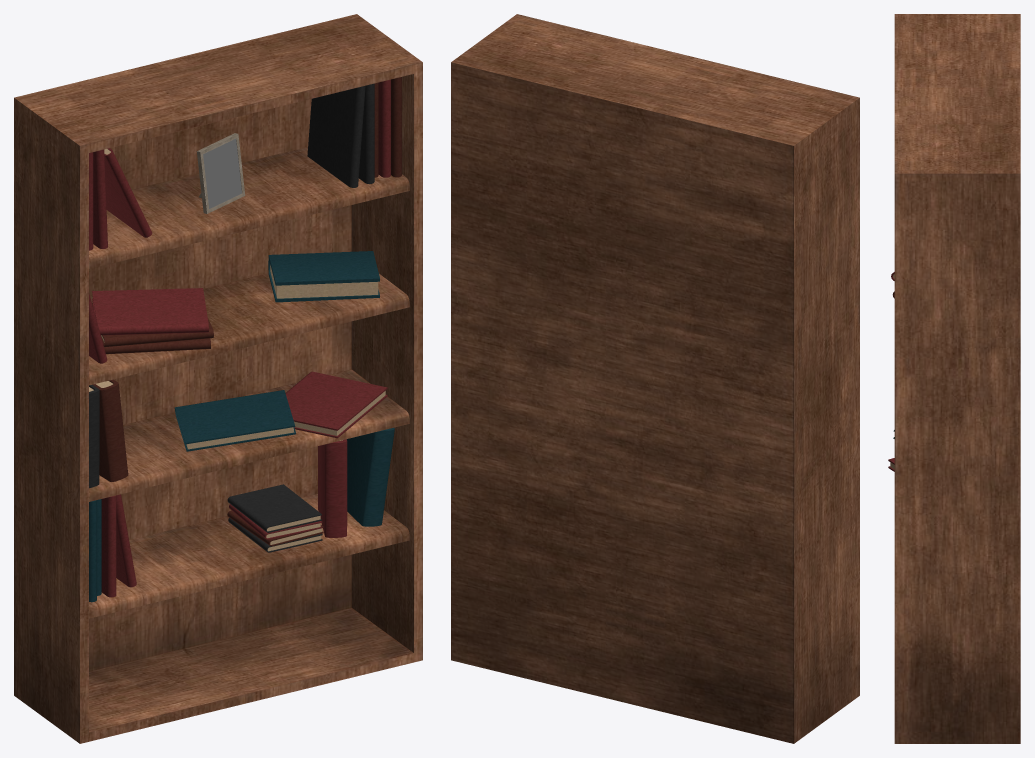
3 views of the same model, side by side, from view 1: azimuth 30°, elevation 25°; view 2: azimuth 150°, elevation 25°; view 3: azimuth 270°, elevation 25° (orthographic). The views are drawn at different scales.
Parts seen in each view (by area): view 1: Shelf, Book.017, Book.008, Book.006, Book.016, Book.013, Book.019, Book.023, Book.018, Book.015, FrameGlass, Book.003 (+15 smaller); view 2: Shelf; view 3: Shelf.
Boxes of the visible parts, bbox=[...] form: Shelf: bbox=[14, 14, 422, 743]; Book.017: bbox=[174, 390, 295, 451]; Book.008: bbox=[268, 251, 379, 302]; Book.006: bbox=[92, 288, 208, 335]; Book.016: bbox=[285, 371, 387, 438]; Book.013: bbox=[307, 85, 365, 187]; Book.019: bbox=[347, 427, 394, 526]; Book.023: bbox=[227, 484, 321, 532]; Book.018: bbox=[318, 439, 347, 537]; Book.015: bbox=[93, 379, 128, 481]; FrameGlass: bbox=[203, 139, 241, 208]; Book.003: bbox=[104, 148, 152, 237]; Shelf: bbox=[451, 14, 859, 743]; Shelf: bbox=[894, 14, 1020, 743].
Size of the model in its own units: 1.2 by 1.99 by 0.4189.
Materials: 8 (8 with a texture image).
